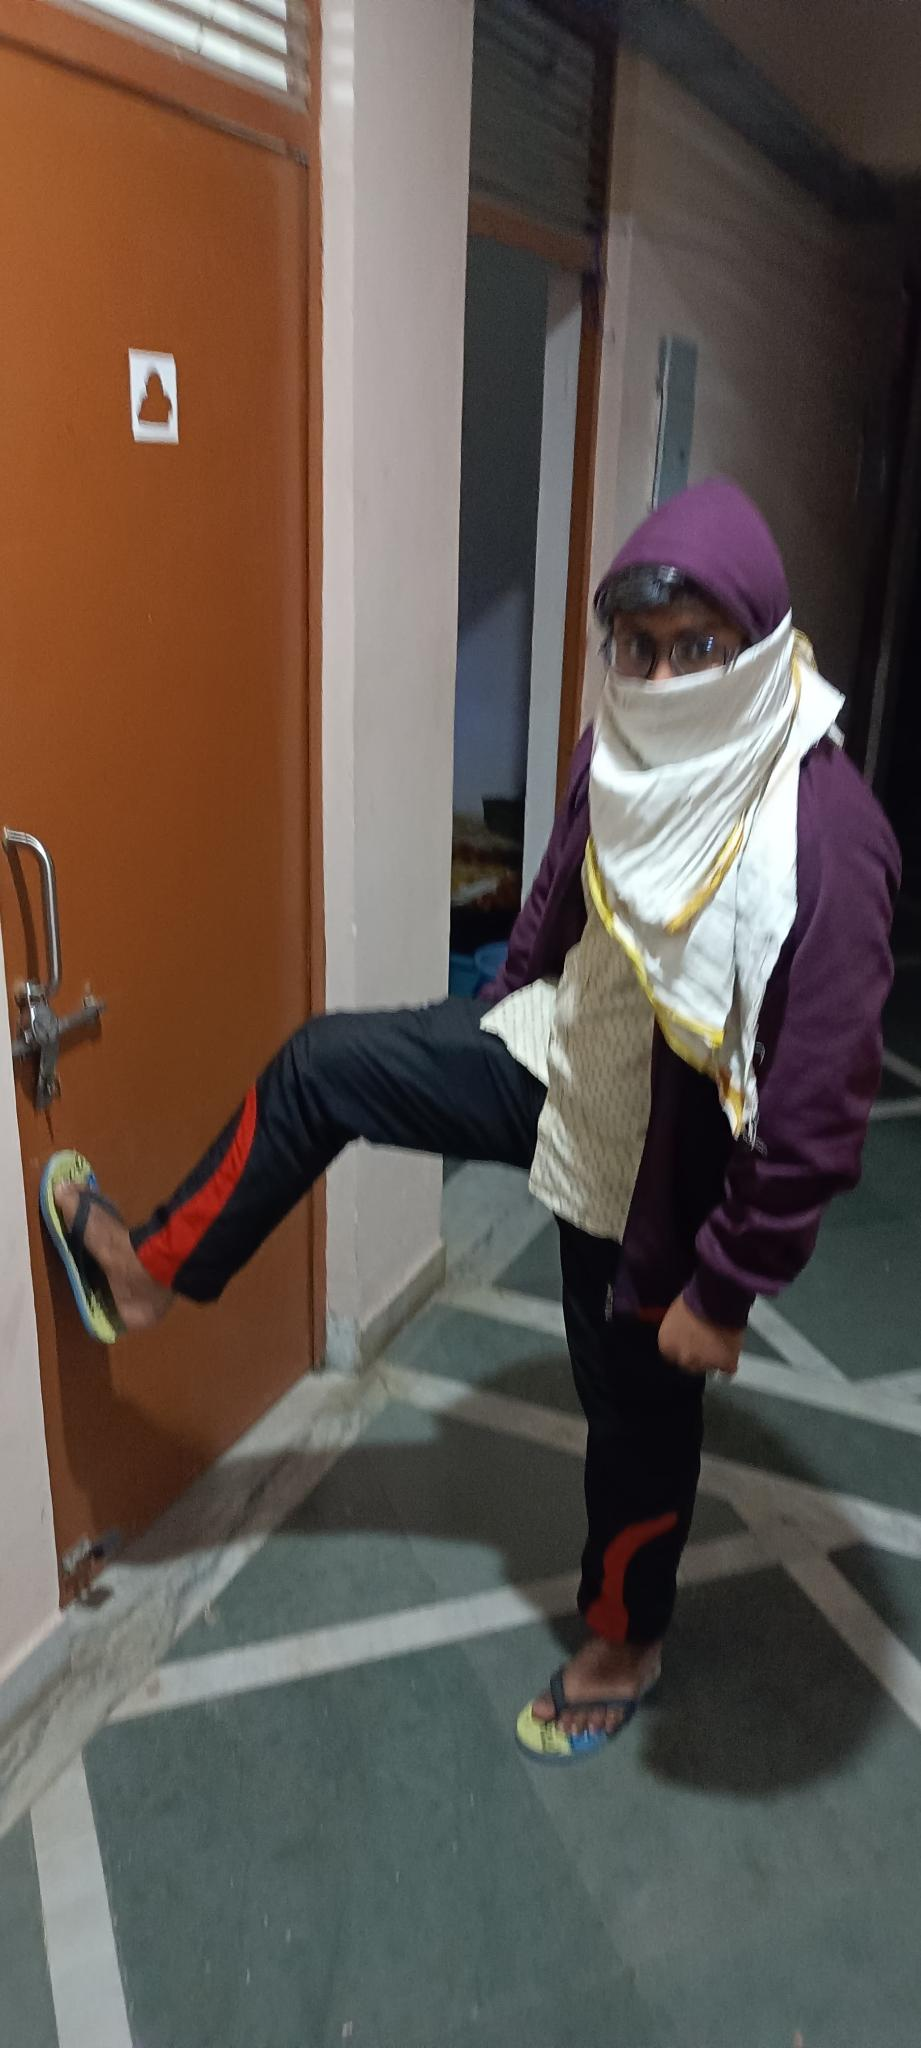suspicion: (0, 468, 921, 1836), (389, 364, 901, 1831)
